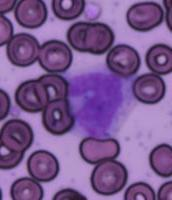M: (64, 64, 136, 139)
